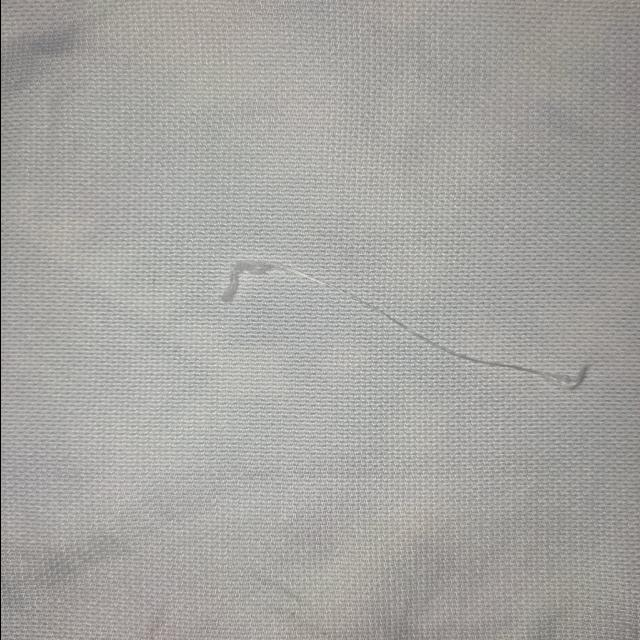Thread: (217, 258, 592, 394)
